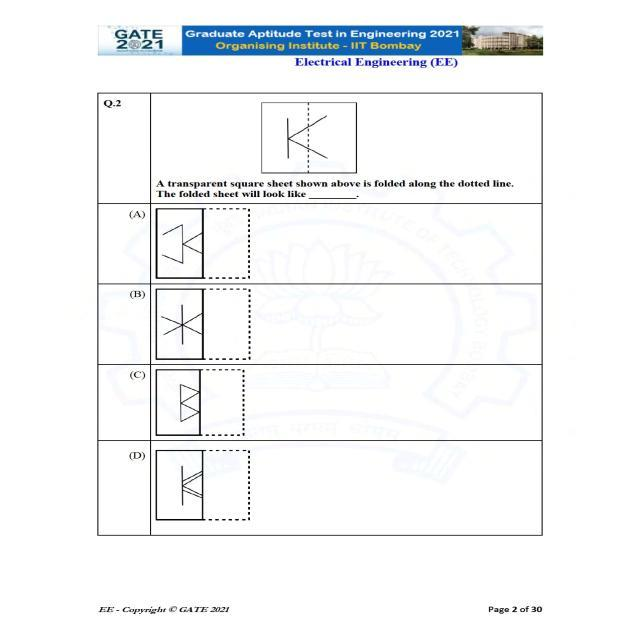Answer_Block: (62, 208, 582, 556)
Question_Answer_Block: (62, 79, 582, 556)
Question_Block: (62, 78, 582, 205)
Question_Paper_Area: (62, 79, 582, 556)
